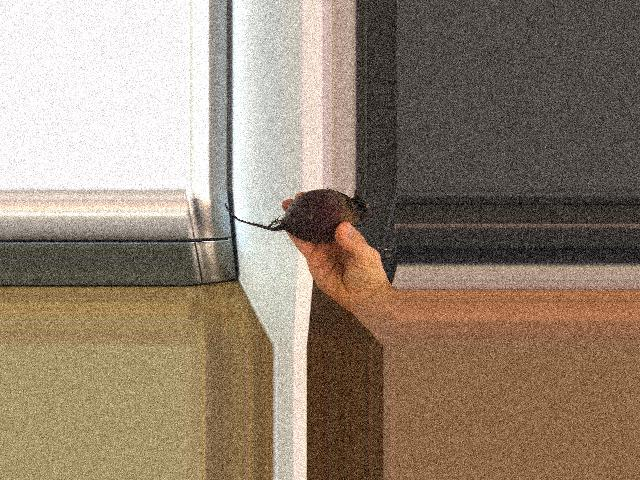beet: (224, 188, 373, 242)
